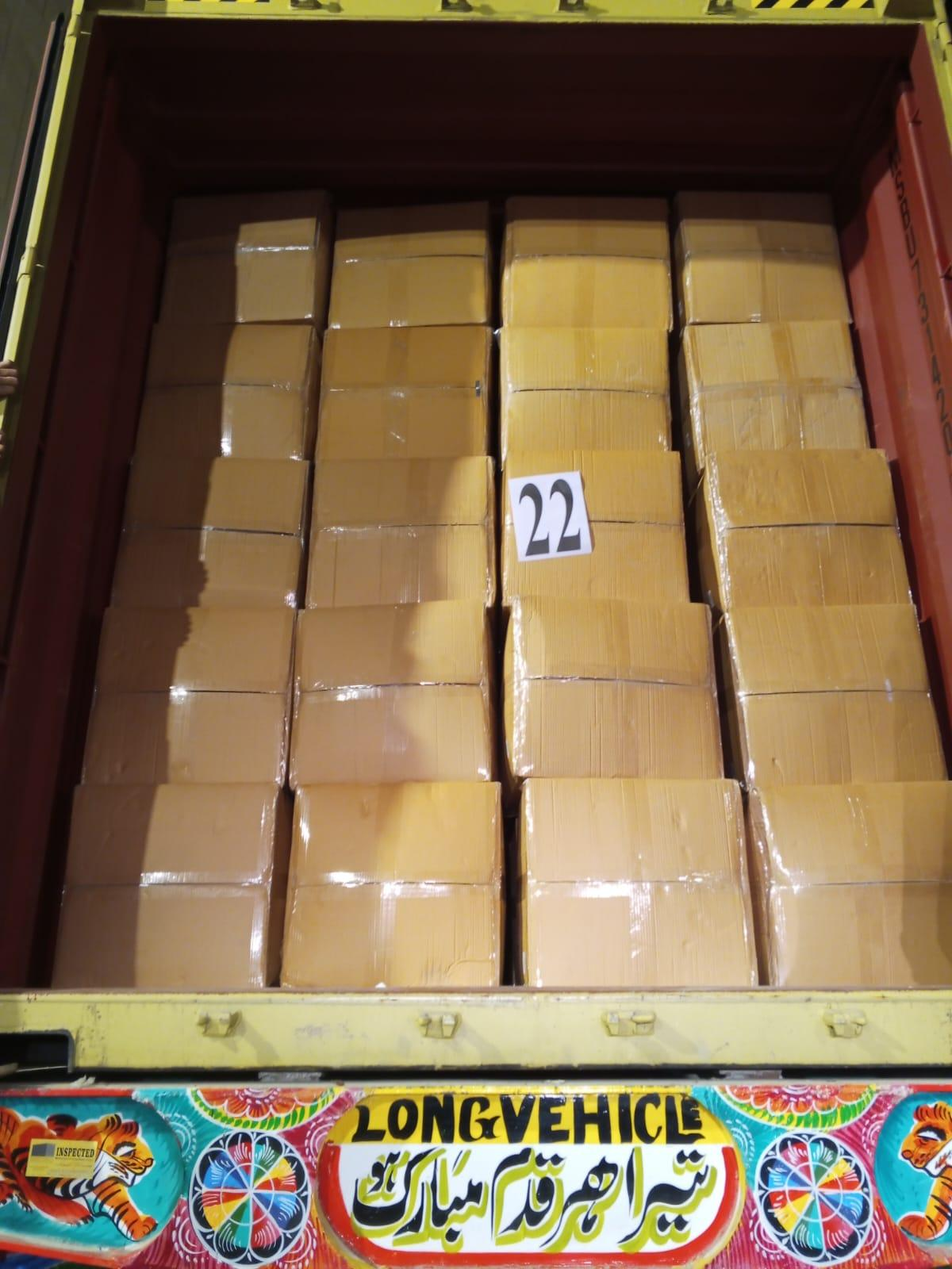carton: (516, 779, 757, 989), (53, 784, 290, 991), (282, 782, 503, 990), (748, 780, 952, 988), (720, 603, 946, 787), (504, 600, 724, 782), (290, 601, 495, 788), (83, 608, 295, 784), (696, 450, 911, 611), (109, 455, 310, 612), (679, 320, 869, 482), (501, 450, 689, 607), (306, 457, 496, 608), (136, 323, 321, 459), (317, 326, 493, 460), (674, 192, 850, 326), (160, 191, 332, 328), (500, 327, 670, 462), (502, 197, 673, 331), (328, 203, 492, 328)
